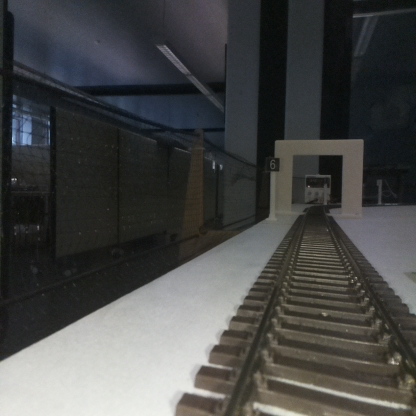black-info-6: (265, 158, 279, 220)
